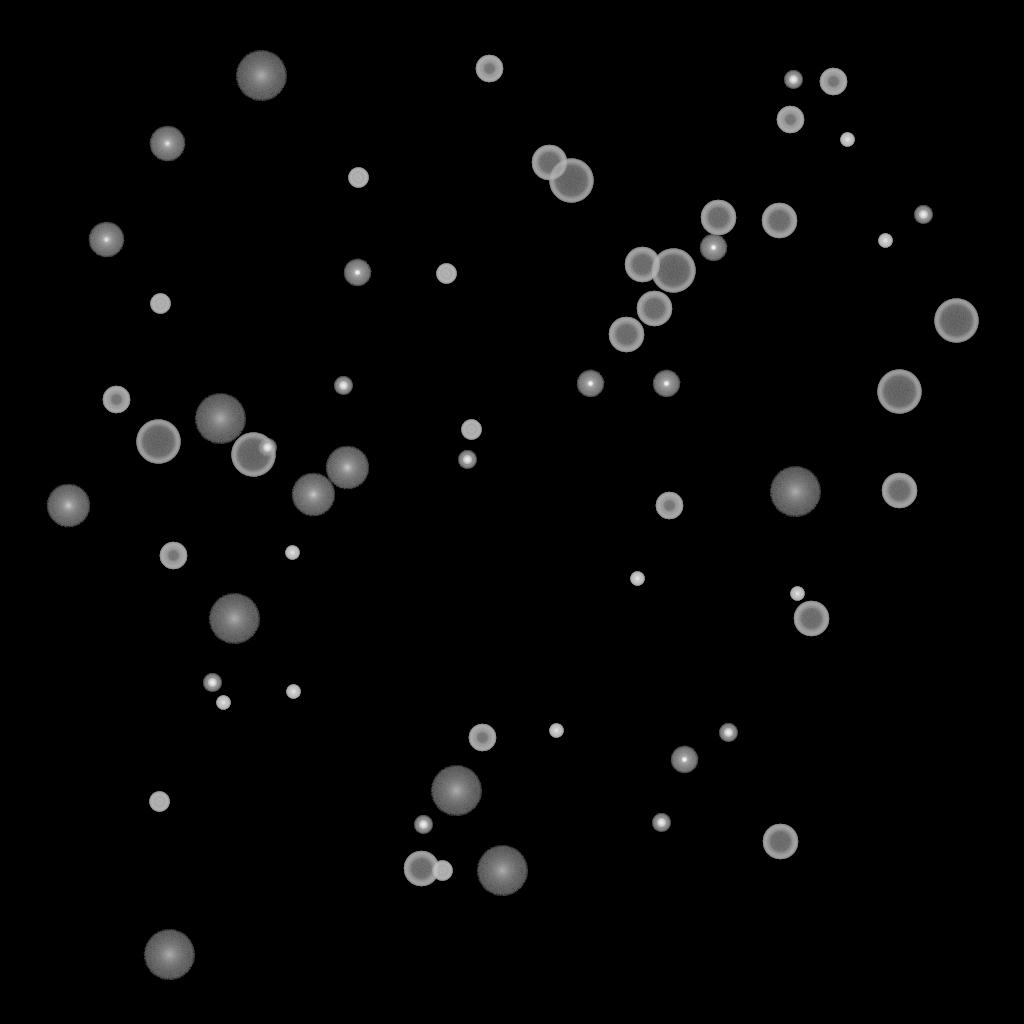depth:-10: (652, 370, 680, 398), (343, 259, 371, 287), (699, 234, 727, 262), (670, 746, 698, 774), (576, 370, 604, 398)
depth:-20: (203, 674, 221, 692), (334, 377, 352, 395), (414, 816, 432, 834), (458, 451, 476, 469), (914, 206, 932, 224), (719, 724, 737, 742), (784, 71, 802, 89), (652, 814, 670, 832), (258, 439, 276, 457)
depth:-30: (285, 546, 299, 560), (630, 572, 644, 586), (790, 587, 804, 601), (840, 133, 854, 147), (878, 234, 892, 248), (216, 696, 230, 710), (286, 685, 300, 699), (549, 724, 563, 738)
depth:-40: (348, 168, 368, 188), (149, 792, 169, 812), (432, 861, 452, 881), (461, 420, 481, 440), (436, 264, 456, 284), (150, 294, 170, 314)
depth:-50: (468, 724, 496, 752), (159, 542, 187, 570), (655, 492, 683, 520), (475, 55, 503, 83), (819, 68, 847, 96), (102, 386, 130, 414), (776, 106, 804, 134)
depth:-60: (636, 291, 672, 327), (700, 200, 736, 236), (531, 145, 567, 181), (793, 601, 829, 637), (608, 317, 644, 353), (762, 824, 798, 860), (624, 247, 660, 283), (881, 473, 917, 509), (403, 851, 439, 887), (761, 203, 797, 239)
depth:-70: (877, 370, 921, 414), (651, 249, 695, 293), (231, 433, 275, 477), (549, 159, 593, 203), (136, 420, 180, 464), (934, 299, 978, 343)
depth:0: (88, 222, 124, 258), (149, 126, 185, 162)
depth:10: (291, 473, 335, 517), (46, 484, 90, 528), (325, 446, 369, 490)
depth:20: (235, 51, 287, 101), (430, 766, 482, 816), (194, 394, 246, 444), (769, 467, 821, 517), (143, 930, 195, 980), (208, 594, 260, 644), (476, 846, 528, 896)
